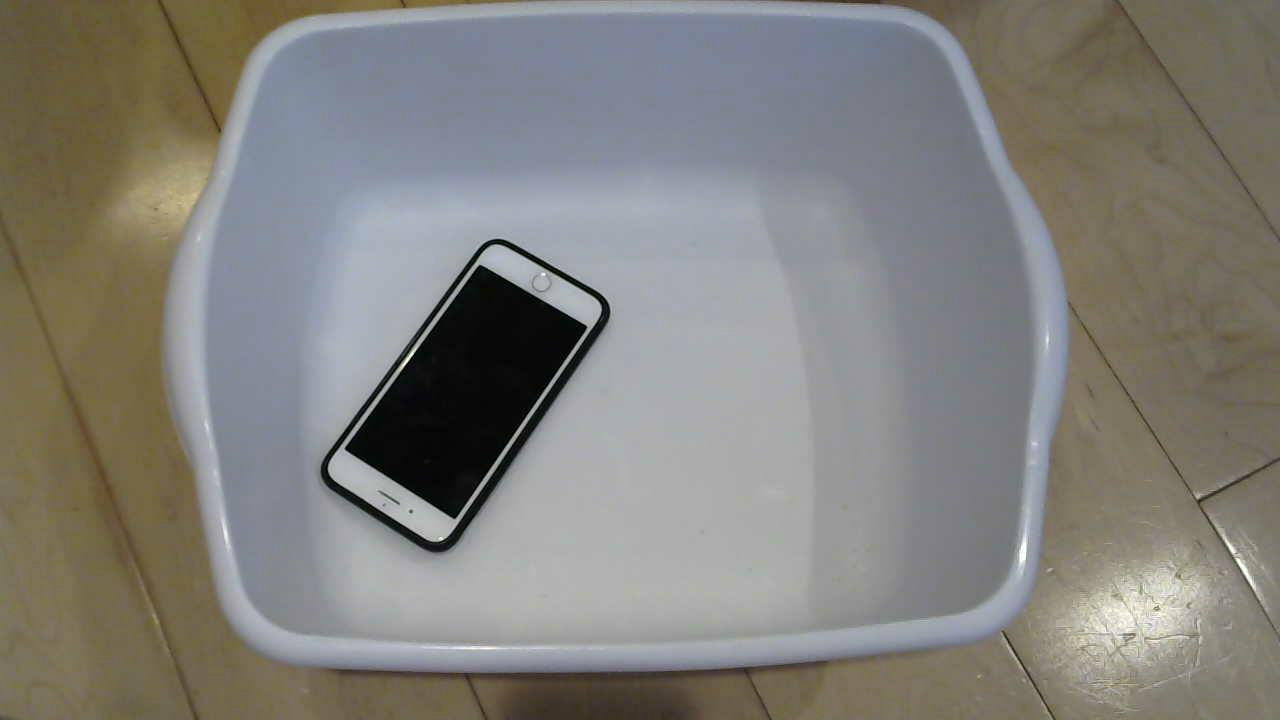phone: (305, 239, 622, 571)
